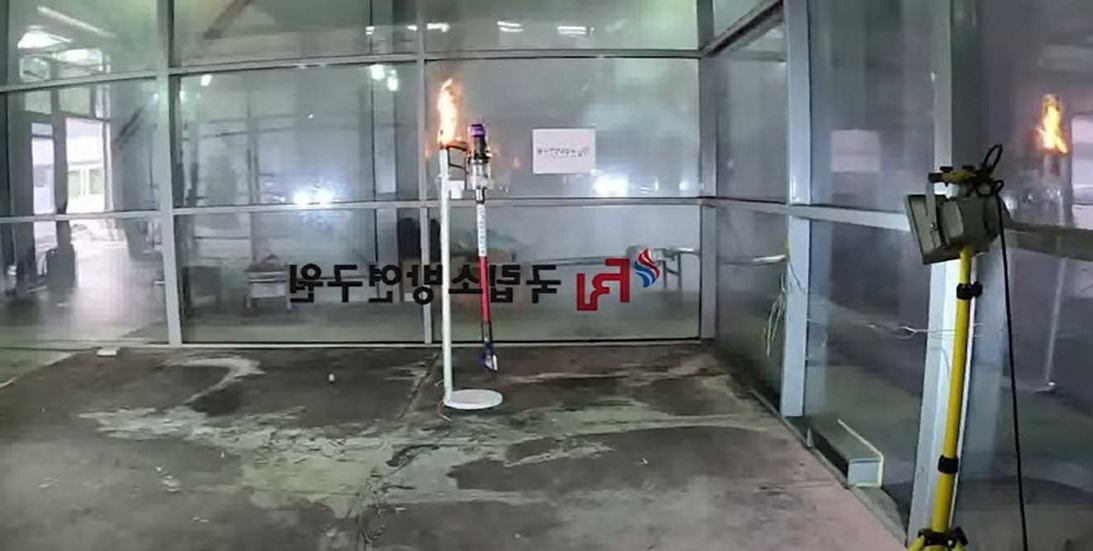fire: (401, 59, 476, 170), (1016, 82, 1076, 171)
